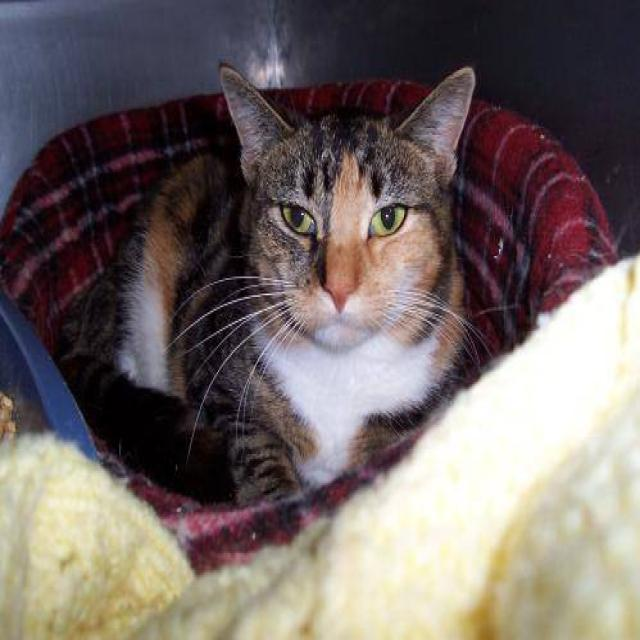cat: (54, 59, 496, 508)
